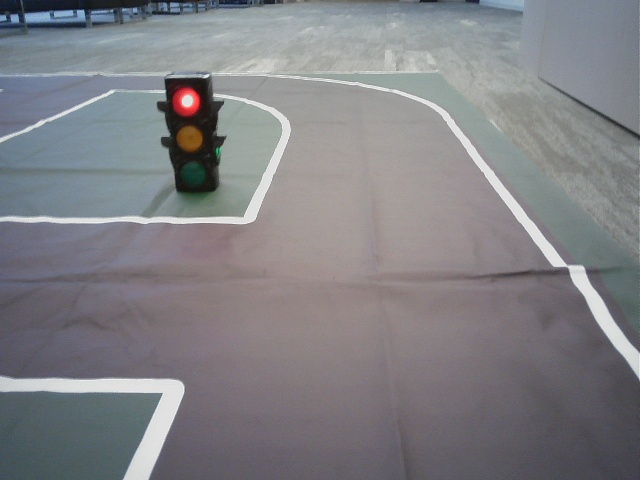red: (170, 82, 209, 189)
